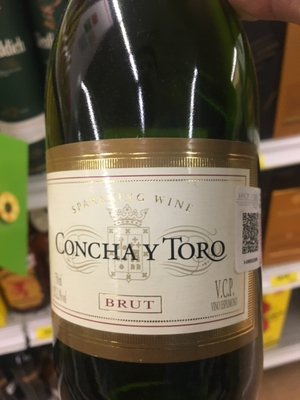brut: (40, 16, 276, 397)
